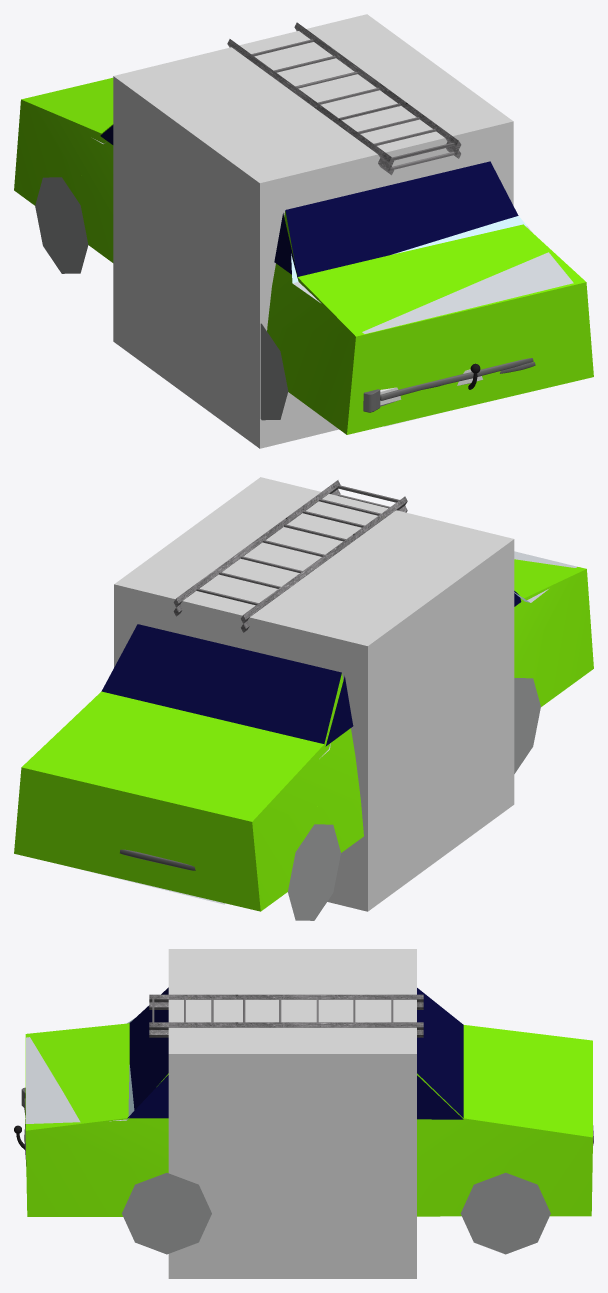
Rendered from lada.fbx.
The picture shows the model from 3 angles, top to bottom: view 1: azimuth 30°, elevation 25°; view 2: azimuth 150°, elevation 25°; view 3: azimuth 270°, elevation 25°; orthographic projection. The views are drawn at different scales.
Visible parts, largest first — view 1: Cube, chassis_vlo, peren.dff.peren_col.ColMesh, chassis, bump_rear_dam, bump_rear_ok; view 2: Cube, chassis_vlo, chassis, peren.dff.peren_col.ColMesh; view 3: Cube, chassis_vlo, chassis, peren.dff.peren_col.ColMesh.
Part boxes in pixels (left/top/right/bottom): Cube: left=113, top=14, right=513, bottom=448; chassis_vlo: left=14, top=77, right=593, bottom=434; peren.dff.peren_col.ColMesh: left=93, top=138, right=573, bottom=426; chassis: left=80, top=22, right=480, bottom=389; bump_rear_dam: left=363, top=362, right=535, bottom=412; bump_rear_ok: left=420, top=358, right=533, bottom=389; Cube: left=114, top=477, right=514, bottom=911; chassis_vlo: left=14, top=559, right=593, bottom=920; chassis: left=173, top=480, right=407, bottom=808; peren.dff.peren_col.ColMesh: left=72, top=551, right=577, bottom=904; Cube: left=168, top=949, right=416, bottom=1278; chassis_vlo: left=25, top=987, right=592, bottom=1254; chassis: left=14, top=994, right=423, bottom=1149; peren.dff.peren_col.ColMesh: left=26, top=1018, right=134, bottom=1123.
Size of what is drawn, in the model's own units: 200 by 204 by 467.
